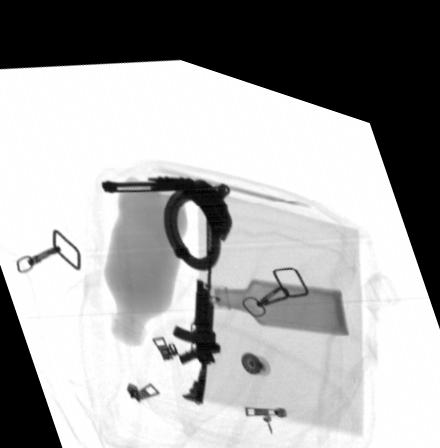Gun: (170, 198, 223, 391)
HandCuffs: (97, 162, 234, 256)
